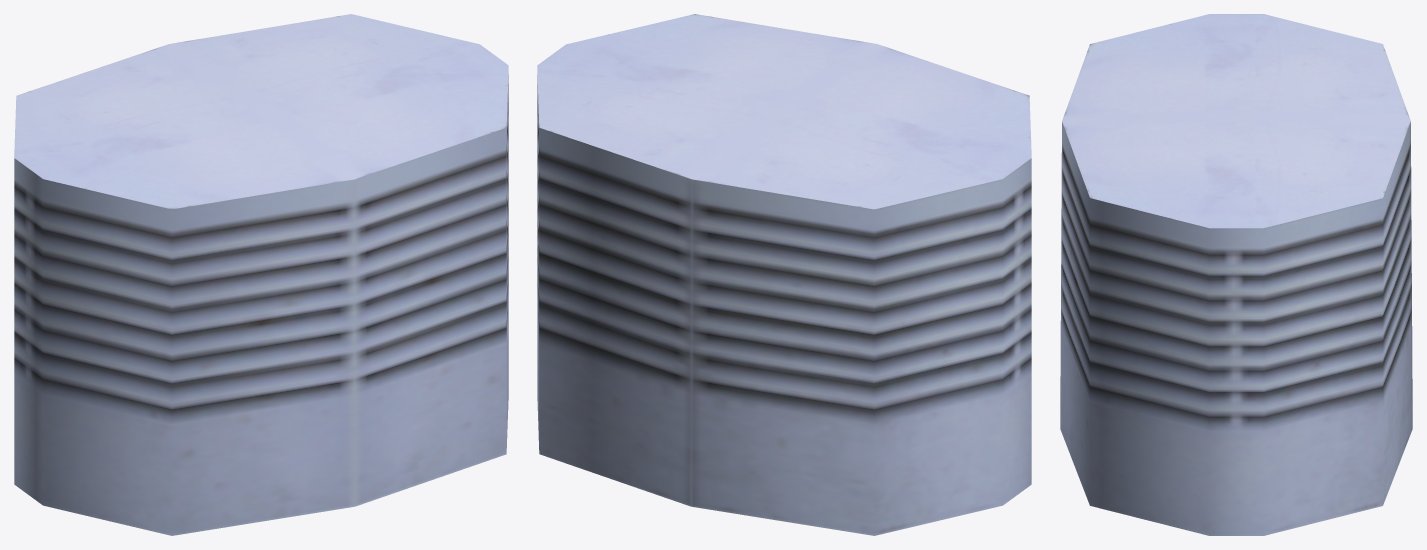
File: vent.FBX
3 views of the same model, side by side, from view 1: azimuth 30°, elevation 25°; view 2: azimuth 150°, elevation 25°; view 3: azimuth 270°, elevation 25° (orthographic). The views are drawn at different scales.
Visible parts, largest first — view 1: prop_vent_LOD0; view 2: prop_vent_LOD0; view 3: prop_vent_LOD0.
Part boxes in pixels (box(x1,y1,x2,y2)): prop_vent_LOD0: box(14, 14, 508, 535); prop_vent_LOD0: box(537, 14, 1031, 535); prop_vent_LOD0: box(1060, 14, 1412, 535).
Size of what is drawn, in the model's own units: 0.7715 by 0.5263 by 0.5367.
